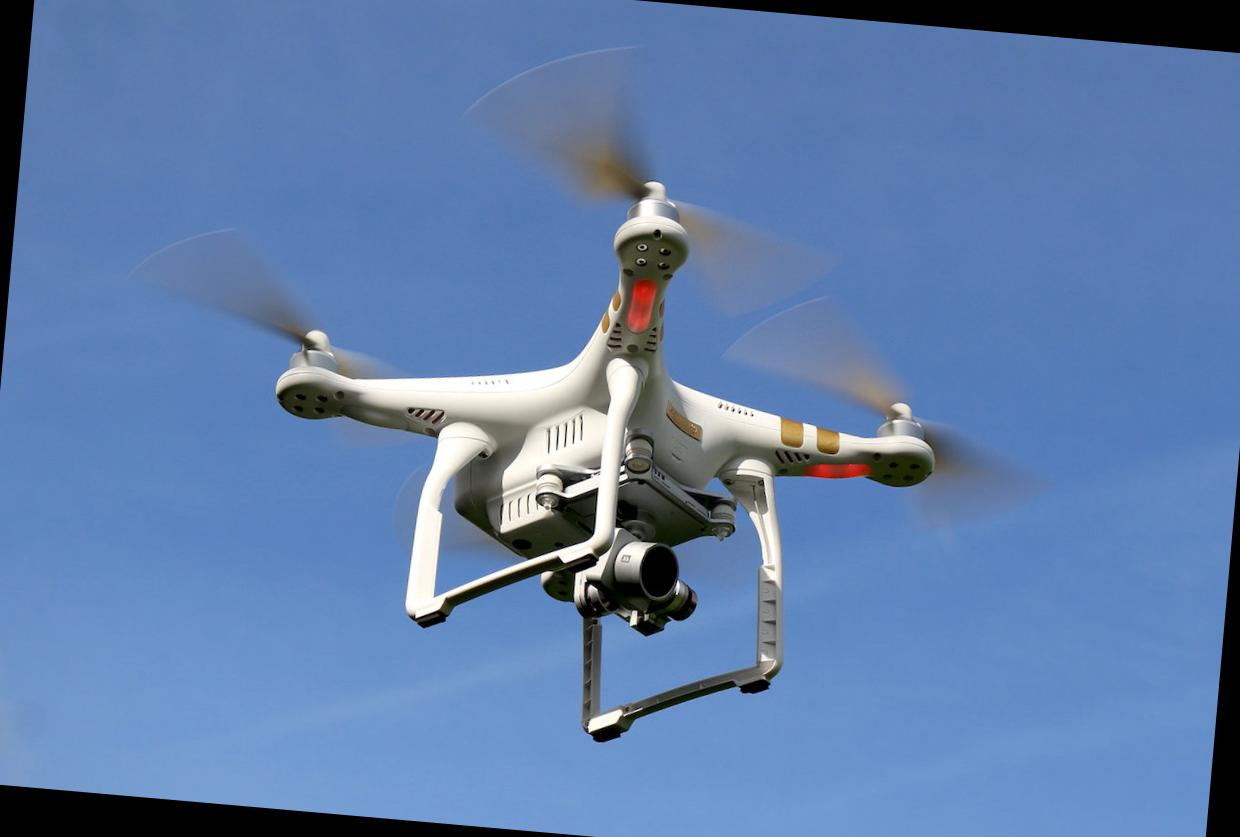drone: (215, 110, 1017, 627)
